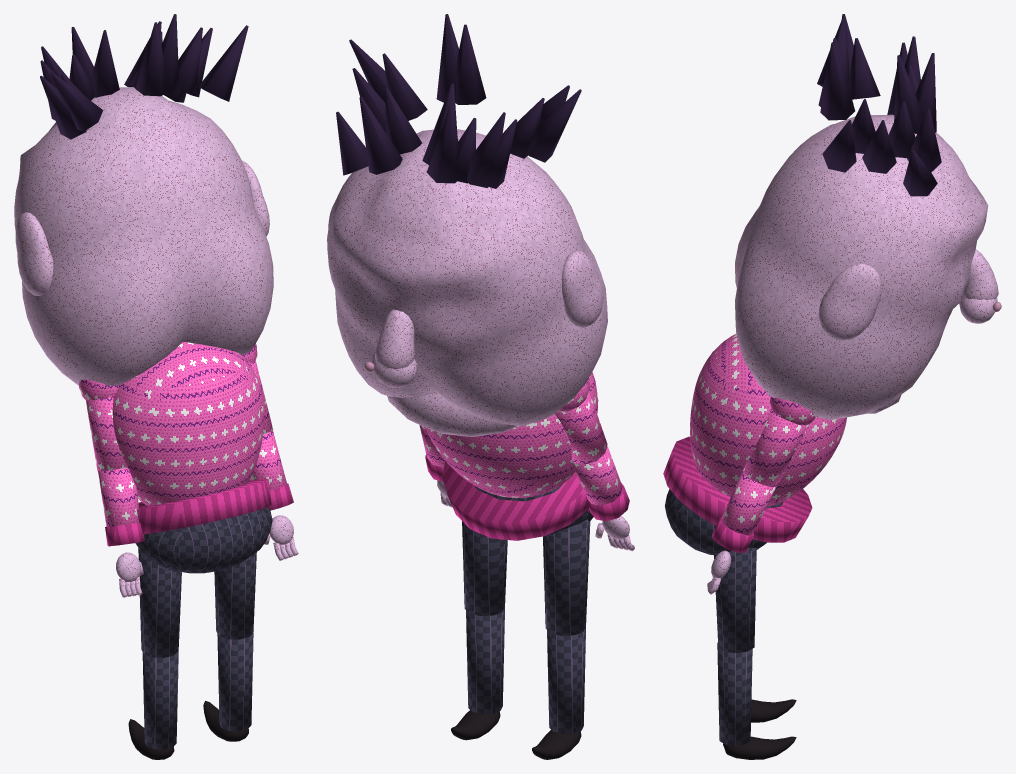
The model's file is c_gordo.glb.
3 renders of one model, left to right at view 1: azimuth 30°, elevation 25°; view 2: azimuth 150°, elevation 25°; view 3: azimuth 270°, elevation 25°, orthographic. The views are drawn at different scales.
Parts seen in each view (by area): view 1: part_head, part_spine, part_body, part_kneeR, part_kneeL, part_legL, part_legR, part_foreL, part_armL, part_foreR, part_handL, part_handR (+1 smaller); view 2: part_head, part_spine, part_legL, part_kneeR, part_kneeL, part_legR, part_armL, part_foreL, part_handL, part_foreR, part_body; view 3: part_head, part_spine, part_kneeR, part_legR, part_arm, part_foreR, part_body, part_kneeL, part_handR.
Part boxes in pixels (bbox=[...]): part_head: bbox=[14, 14, 273, 385]; part_spine: bbox=[112, 342, 271, 534]; part_body: bbox=[135, 504, 272, 573]; part_kneeR: bbox=[203, 633, 253, 741]; part_kneeL: bbox=[128, 651, 178, 759]; part_legL: bbox=[138, 548, 181, 657]; part_legR: bbox=[214, 552, 256, 639]; part_foreL: bbox=[98, 467, 144, 546]; part_armL: bbox=[79, 379, 127, 471]; part_foreR: bbox=[250, 430, 293, 510]; part_handL: bbox=[116, 552, 143, 597]; part_handR: bbox=[264, 515, 298, 560]; part_head: bbox=[327, 14, 607, 436]; part_spine: bbox=[425, 372, 598, 540]; part_legL: bbox=[543, 519, 590, 635]; part_kneeR: bbox=[451, 607, 504, 740]; part_kneeL: bbox=[532, 627, 585, 759]; part_legR: bbox=[462, 521, 507, 615]; part_armL: bbox=[555, 378, 607, 464]; part_foreL: bbox=[573, 445, 629, 521]; part_handL: bbox=[595, 516, 634, 551]; part_foreR: bbox=[419, 425, 444, 481]; part_body: bbox=[475, 484, 593, 536]; part_head: bbox=[735, 14, 1001, 419]; part_spine: bbox=[663, 333, 846, 542]; part_kneeR: bbox=[717, 642, 796, 759]; part_legR: bbox=[714, 547, 756, 653]; part_arm: bbox=[743, 397, 815, 486]; part_foreR: bbox=[712, 470, 776, 552]; part_body: bbox=[665, 489, 783, 555]; part_kneeL: bbox=[751, 699, 796, 722]; part_handR: bbox=[707, 550, 731, 594].
Bounding box in the file's own units: 0.6416 × 1.78 × 0.7701.
8 materials, 4 textured.
